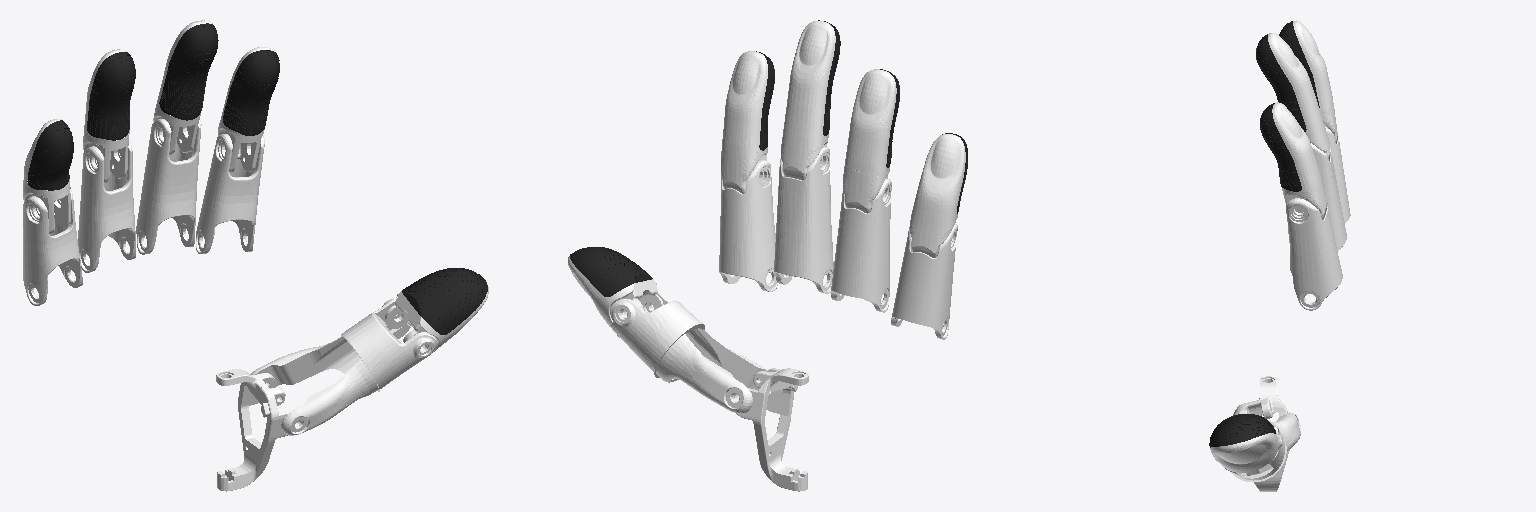
The robot description file, URDF, robot "DH116S-R000-A1":
<?xml version="1.0" encoding="utf-8"?>
<!-- This URDF was automatically created by SolidWorks to URDF Exporter! Originally created by [author] ([email redacted]) 
     Commit Version: 1.6.0-4-g7f85cfe  Build Version: 1.6.7995.38578
     For more information, please see http://wiki.ros.org/sw_urdf_exporter -->
<robot
  name="DH116S-R000-A1">
  <link
    name="base_link">
    <inertial>
      <origin
        xyz="0.00044529 0.0074122 0.047285"
        rpy="0 0 0" />
      <mass
        value="0.10795" />
      <inertia
        ixx="4.6381E-05"
        ixy="2.7508E-08"
        ixz="1.863E-07"
        iyy="6.7147E-05"
        iyz="-1.5554E-06"
        izz="3.0034E-05" />
    </inertial>
    <visual>
      <origin
        xyz="0 0 0"
        rpy="0 0 0" />
      <geometry>
        <mesh
          filename="package://lhandpro_description/meshes/base_link.STL" />
      </geometry>
      <material
        name="">
        <color
          rgba="1 1 1 1" />
      </material>
    </visual>
    <collision>
      <origin
        xyz="0 0 0"
        rpy="0 0 0" />
      <geometry>
        <mesh
          filename="package://lhandpro_description/meshes/base_link.STL" />
      </geometry>
    </collision>
  </link>
  <link
    name="finger11_link">
    <inertial>
      <origin
        xyz="-0.0014872 -0.0084274 0.00095867"
        rpy="0 0 0" />
      <mass
        value="0.0027298" />
      <inertia
        ixx="3.2865E-07"
        ixy="-7.416E-09"
        ixz="1.1689E-08"
        iyy="3.5725E-07"
        iyz="3.5012E-08"
        izz="1.0938E-07" />
    </inertial>
    <visual>
      <origin
        xyz="0 0 0"
        rpy="0 0 0" />
      <geometry>
        <mesh
          filename="package://lhandpro_description/meshes/finger11_link.STL" />
      </geometry>
      <material
        name="">
        <color
          rgba="1 1 1 1" />
      </material>
    </visual>
    <collision>
      <origin
        xyz="0 0 0"
        rpy="0 0 0" />
      <geometry>
        <mesh
          filename="package://lhandpro_description/meshes/finger11_link.STL" />
      </geometry>
    </collision>
  </link>
  <joint
    name="finger11"
    type="revolute">
    <origin
      xyz="0.019011 -0.007805 0.03432"
      rpy="0 -3.0438E-05 1.5708" />
    <parent
      link="base_link" />
    <child
      link="finger11_link" />
    <axis
      xyz="0 0 -1" />
    <limit
      lower="0"
      upper="1.92"
      effort="0"
      velocity="0" />
  </joint>
  <link
    name="finger12_link">
    <inertial>
      <origin
        xyz="0.021017 0.028207 -0.020207"
        rpy="0 0 0" />
      <mass
        value="0.15691" />
      <inertia
        ixx="0.00031329"
        ixy="-5.4214E-05"
        ixz="-3.0162E-06"
        iyy="0.00014267"
        iyz="-3.8971E-05"
        izz="0.00022524" />
    </inertial>
    <visual>
      <origin
        xyz="0 0 0"
        rpy="0 0 0" />
      <geometry>
        <mesh
          filename="package://lhandpro_description/meshes/finger12_link.STL" />
      </geometry>
      <material
        name="">
        <color
          rgba="1 1 1 1" />
      </material>
    </visual>
    <collision>
      <origin
        xyz="0 0 0"
        rpy="0 0 0" />
      <geometry>
        <mesh
          filename="package://lhandpro_description/meshes/finger12_link.STL" />
      </geometry>
    </collision>
  </link>
  <joint
    name="finger12"
    type="revolute">
    <origin
      xyz="-0.0024172 -0.015 0.0067143"
      rpy="1.1997 -0.2618 0" />
    <parent
      link="finger11_link" />
    <child
      link="finger12_link" />
    <axis
      xyz="-1 0 0" />
    <limit
      lower="0"
      upper="1.57"
      effort="0"
      velocity="0" />
  </joint>
  <link
    name="finger13_link">
    <inertial>
      <origin
        xyz="2.0803E-05 -0.0010263 0.0087716"
        rpy="0 0 0" />
      <mass
        value="0.0051235" />
      <inertia
        ixx="2.4095E-07"
        ixy="-4.7783E-10"
        ixz="-9.7696E-10"
        iyy="3.0808E-07"
        iyz="-2.5033E-09"
        izz="1.6137E-07" />
    </inertial>
    <visual>
      <origin
        xyz="0 0 0"
        rpy="0 0 0" />
      <geometry>
        <mesh
          filename="package://lhandpro_description/meshes/finger13_link.STL" />
      </geometry>
      <material
        name="">
        <color
          rgba="1 1 1 1" />
      </material>
    </visual>
    <collision>
      <origin
        xyz="0 0 0"
        rpy="0 0 0" />
      <geometry>
        <mesh
          filename="package://lhandpro_description/meshes/finger13_link.STL" />
      </geometry>
    </collision>
  </link>
  <joint
    name="finger13"
    type="revolute">
    <origin
      xyz="0 0 0.040273"
      rpy="0 0 0" />
    <parent
      link="finger12_link" />
    <child
      link="finger13_link" />
    <axis
      xyz="-1 0 0" />
    <limit
      lower="0"
      upper="1.57"
      effort="0"
      velocity="0" />
  </joint>
  <link
    name="finger14_link">
    <inertial>
      <origin
        xyz="-3.9568E-06 0.0042569 0.012288"
        rpy="0 0 0" />
      <mass
        value="0.0024048" />
      <inertia
        ixx="6.5133E-08"
        ixy="-3.3089E-10"
        ixz="-5.4015E-10"
        iyy="9.9517E-08"
        iyz="4.5348E-09"
        izz="5.5452E-08" />
    </inertial>
    <visual>
      <origin
        xyz="0 0 0"
        rpy="0 0 0" />
      <geometry>
        <mesh
          filename="package://lhandpro_description/meshes/finger14_link.STL" />
      </geometry>
      <material
        name="">
        <color
          rgba="0.2 0.2 0.2 1" />
      </material>
    </visual>
    <collision>
      <origin
        xyz="0 0 0"
        rpy="0 0 0" />
      <geometry>
        <mesh
          filename="package://lhandpro_description/meshes/finger14_link.STL" />
      </geometry>
    </collision>
  </link>
  <joint
    name="finger14"
    type="fixed">
    <origin
      xyz="0 0 0"
      rpy="0 0 0" />
    <parent
      link="finger13_link" />
    <child
      link="finger14_link" />
    <axis
      xyz="0 0 0" />
    <limit
      lower="0"
      upper="0"
      effort="0"
      velocity="0" />
  </joint>
  <link
    name="finger21_link">
    <inertial>
      <origin
        xyz="-3.1071E-06 -0.00017638 0.014617"
        rpy="0 0 0" />
      <mass
        value="0.0039377" />
      <inertia
        ixx="3.1595E-07"
        ixy="-3.4302E-11"
        ixz="6.472E-11"
        iyy="3.4097E-07"
        iyz="3.2752E-08"
        izz="1.5671E-07" />
    </inertial>
    <visual>
      <origin
        xyz="0 0 0"
        rpy="0 0 0" />
      <geometry>
        <mesh
          filename="package://lhandpro_description/meshes/finger21_link.STL" />
      </geometry>
      <material
        name="">
        <color
          rgba="1 1 1 1" />
      </material>
    </visual>
    <collision>
      <origin
        xyz="0 0 0"
        rpy="0 0 0" />
      <geometry>
        <mesh
          filename="package://lhandpro_description/meshes/finger21_link.STL" />
      </geometry>
    </collision>
  </link>
  <joint
    name="finger21"
    type="revolute">
    <origin
      xyz="0.026269 0.0052799 0.083877"
      rpy="-0.018831 0.11816 -0.15867" />
    <parent
      link="base_link" />
    <child
      link="finger21_link" />
    <axis
      xyz="1 0 0" />
    <limit
      lower="0"
      upper="1.57"
      effort="0"
      velocity="0" />
  </joint>
  <link
    name="finger22_link">
    <inertial>
      <origin
        xyz="-3.4858E-05 0.00071691 0.010973"
        rpy="0 0 0" />
      <mass
        value="0.0035951" />
      <inertia
        ixx="3.7147E-07"
        ixy="-2.5545E-10"
        ixz="2.1606E-09"
        iyy="3.6852E-07"
        iyz="5.9509E-08"
        izz="6.8574E-08" />
    </inertial>
    <visual>
      <origin
        xyz="0 0 0"
        rpy="0 0 0" />
      <geometry>
        <mesh
          filename="package://lhandpro_description/meshes/finger22_link.STL" />
      </geometry>
      <material
        name="">
        <color
          rgba="1 1 1 1" />
      </material>
    </visual>
    <collision>
      <origin
        xyz="0 0 0"
        rpy="0 0 0" />
      <geometry>
        <mesh
          filename="package://lhandpro_description/meshes/finger22_link.STL" />
      </geometry>
    </collision>
  </link>
  <joint
    name="finger22"
    type="revolute">
    <origin
      xyz="0 -0.0036408 0.027789"
      rpy="0 0 0" />
    <parent
      link="finger21_link" />
    <child
      link="finger22_link" />
    <axis
      xyz="1 0 0" />
    <limit
      lower="0"
      upper="1.57"
      effort="0"
      velocity="0" />
  </joint>
  <link
    name="finger23_link">
    <inertial>
      <origin
        xyz="-7.8448E-05 -0.004936 0.018863"
        rpy="0 0 0" />
      <mass
        value="0.0019493" />
      <inertia
        ixx="9.2478E-08"
        ixy="2.6283E-11"
        ixz="3.1426E-11"
        iyy="9.1954E-08"
        iyz="2.5642E-08"
        izz="3.301E-08" />
    </inertial>
    <visual>
      <origin
        xyz="0 0 0"
        rpy="0 0 0" />
      <geometry>
        <mesh
          filename="package://lhandpro_description/meshes/finger23_link.STL" />
      </geometry>
      <material
        name="">
        <color
          rgba="0.2 0.2 0.2 1" />
      </material>
    </visual>
    <collision>
      <origin
        xyz="0 0 0"
        rpy="0 0 0" />
      <geometry>
        <mesh
          filename="package://lhandpro_description/meshes/finger23_link.STL" />
      </geometry>
    </collision>
  </link>
  <joint
    name="finger23"
    type="fixed">
    <origin
      xyz="0 0 0"
      rpy="0 0 0" />
    <parent
      link="finger22_link" />
    <child
      link="finger23_link" />
    <axis
      xyz="0 0 0" />
    <limit
      lower="0"
      upper="0"
      effort="0"
      velocity="0" />
  </joint>
  <link
    name="finger31_link">
    <inertial>
      <origin
        xyz="-2.463E-06 0.0016883 0.016609"
        rpy="0 0 0" />
      <mass
        value="0.0046564" />
      <inertia
        ixx="4.6403E-07"
        ixy="-6.2008E-11"
        ixz="5.3483E-11"
        iyy="4.9622E-07"
        iyz="1.1987E-08"
        izz="1.7841E-07" />
    </inertial>
    <visual>
      <origin
        xyz="0 0 0"
        rpy="0 0 0" />
      <geometry>
        <mesh
          filename="package://lhandpro_description/meshes/finger31_link.STL" />
      </geometry>
      <material
        name="">
        <color
          rgba="1 1 1 1" />
      </material>
    </visual>
    <collision>
      <origin
        xyz="0 0 0"
        rpy="0 0 0" />
      <geometry>
        <mesh
          filename="package://lhandpro_description/meshes/finger31_link.STL" />
      </geometry>
    </collision>
  </link>
  <joint
    name="finger31"
    type="revolute">
    <origin
      xyz="0.008744 0.006507 0.088166"
      rpy="0.10576 0.052052 -0.049525" />
    <parent
      link="base_link" />
    <child
      link="finger31_link" />
    <axis
      xyz="1 0 0" />
    <limit
      lower="0"
      upper="1.57"
      effort="0"
      velocity="0" />
  </joint>
  <link
    name="finger32_link">
    <inertial>
      <origin
        xyz="-4.2116E-07 0.0013472 0.012495"
        rpy="0 0 0" />
      <mass
        value="0.0039648" />
      <inertia
        ixx="5.136E-07"
        ixy="-2.467E-10"
        ixz="1.5491E-09"
        iyy="5.1755E-07"
        iyz="5.4832E-08"
        izz="7.0491E-08" />
    </inertial>
    <visual>
      <origin
        xyz="0 0 0"
        rpy="0 0 0" />
      <geometry>
        <mesh
          filename="package://lhandpro_description/meshes/finger32_link.STL" />
      </geometry>
      <material
        name="">
        <color
          rgba="1 1 1 1" />
      </material>
    </visual>
    <collision>
      <origin
        xyz="0 0 0"
        rpy="0 0 0" />
      <geometry>
        <mesh
          filename="package://lhandpro_description/meshes/finger32_link.STL" />
      </geometry>
    </collision>
  </link>
  <joint
    name="finger32"
    type="revolute">
    <origin
      xyz="0 -0.00026526 0.03253"
      rpy="0 0 0" />
    <parent
      link="finger31_link" />
    <child
      link="finger32_link" />
    <axis
      xyz="1 0 0" />
    <limit
      lower="0"
      upper="1.57"
      effort="0"
      velocity="0" />
  </joint>
  <link
    name="finger33_link">
    <inertial>
      <origin
        xyz="2.3154E-06 -0.0037373 0.021499"
        rpy="0 0 0" />
      <mass
        value="0.0022727" />
      <inertia
        ixx="1.4796E-07"
        ixy="1.5864E-11"
        ixz="-3.152E-13"
        iyy="1.4852E-07"
        iyz="3.2337E-08"
        izz="3.561E-08" />
    </inertial>
    <visual>
      <origin
        xyz="0 0 0"
        rpy="0 0 0" />
      <geometry>
        <mesh
          filename="package://lhandpro_description/meshes/finger33_link.STL" />
      </geometry>
      <material
        name="">
        <color
          rgba="0.2 0.2 0.2 1" />
      </material>
    </visual>
    <collision>
      <origin
        xyz="0 0 0"
        rpy="0 0 0" />
      <geometry>
        <mesh
          filename="package://lhandpro_description/meshes/finger33_link.STL" />
      </geometry>
    </collision>
  </link>
  <joint
    name="finger33"
    type="fixed">
    <origin
      xyz="0 0 0"
      rpy="0 0 0" />
    <parent
      link="finger32_link" />
    <child
      link="finger33_link" />
    <axis
      xyz="0 0 0" />
    <limit
      lower="0"
      upper="0"
      effort="0"
      velocity="0" />
  </joint>
  <link
    name="finger41_link">
    <inertial>
      <origin
        xyz="-2.0192E-06 0.0018776 0.014821"
        rpy="0 0 0" />
      <mass
        value="0.0041427" />
      <inertia
        ixx="3.6211E-07"
        ixy="-4.5157E-11"
        ixz="4.6434E-11"
        iyy="3.9328E-07"
        iyz="1.1678E-08"
        izz="1.5797E-07" />
    </inertial>
    <visual>
      <origin
        xyz="0 0 0"
        rpy="0 0 0" />
      <geometry>
        <mesh
          filename="package://lhandpro_description/meshes/finger41_link.STL" />
      </geometry>
      <material
        name="">
        <color
          rgba="1 1 1 1" />
      </material>
    </visual>
    <collision>
      <origin
        xyz="0 0 0"
        rpy="0 0 0" />
      <geometry>
        <mesh
          filename="package://lhandpro_description/meshes/finger41_link.STL" />
      </geometry>
    </collision>
  </link>
  <joint
    name="finger41"
    type="revolute">
    <origin
      xyz="-0.0088463 0.0073041 0.087413"
      rpy="0.082606 -0.034779 0.050937" />
    <parent
      link="base_link" />
    <child
      link="finger41_link" />
    <axis
      xyz="1 0 0" />
    <limit
      lower="0"
      upper="1.57"
      effort="0"
      velocity="0" />
  </joint>
  <link
    name="finger42_link">
    <inertial>
      <origin
        xyz="-2.8427E-05 0.0015404 0.011153"
        rpy="0 0 0" />
      <mass
        value="0.0038285" />
      <inertia
        ixx="3.9947E-07"
        ixy="-3.4225E-11"
        ixz="2.2812E-09"
        iyy="4.0458E-07"
        iyz="3.4902E-08"
        izz="6.4978E-08" />
    </inertial>
    <visual>
      <origin
        xyz="0 0 0"
        rpy="0 0 0" />
      <geometry>
        <mesh
          filename="package://lhandpro_description/meshes/finger42_link.STL" />
      </geometry>
      <material
        name="">
        <color
          rgba="1 1 1 1" />
      </material>
    </visual>
    <collision>
      <origin
        xyz="0 0 0"
        rpy="0 0 0" />
      <geometry>
        <mesh
          filename="package://lhandpro_description/meshes/finger42_link.STL" />
      </geometry>
    </collision>
  </link>
  <joint
    name="finger42"
    type="revolute">
    <origin
      xyz="0 0 0.029529"
      rpy="-0.084349 0 0" />
    <parent
      link="finger41_link" />
    <child
      link="finger42_link" />
    <axis
      xyz="1 0 0" />
    <limit
      lower="0"
      upper="1.57"
      effort="0"
      velocity="0" />
  </joint>
  <link
    name="finger43_link">
    <inertial>
      <origin
        xyz="-8.2684E-05 -0.0033924 0.020019"
        rpy="0 0 0" />
      <mass
        value="0.0019493" />
      <inertia
        ixx="9.2478E-08"
        ixy="4.3975E-11"
        ixz="6.2557E-11"
        iyy="9.5911E-08"
        iyz="2.0215E-08"
        izz="2.9054E-08" />
    </inertial>
    <visual>
      <origin
        xyz="0 0 0"
        rpy="0 0 0" />
      <geometry>
        <mesh
          filename="package://lhandpro_description/meshes/finger43_link.STL" />
      </geometry>
      <material
        name="">
        <color
          rgba="0.2 0.2 0.2 1" />
      </material>
    </visual>
    <collision>
      <origin
        xyz="0 0 0"
        rpy="0 0 0" />
      <geometry>
        <mesh
          filename="package://lhandpro_description/meshes/finger43_link.STL" />
      </geometry>
    </collision>
  </link>
  <joint
    name="finger43"
    type="fixed">
    <origin
      xyz="0 0 0"
      rpy="0 0 0" />
    <parent
      link="finger42_link" />
    <child
      link="finger43_link" />
    <axis
      xyz="0 0 0" />
    <limit
      lower="0"
      upper="0"
      effort="0"
      velocity="0" />
  </joint>
  <link
    name="finger51_link">
    <inertial>
      <origin
        xyz="-2.2824E-06 0.0018149 0.013139"
        rpy="0 0 0" />
      <mass
        value="0.0034504" />
      <inertia
        ixx="2.3794E-07"
        ixy="-2.6265E-12"
        ixz="8.6014E-11"
        iyy="2.6911E-07"
        iyz="7.2418E-09"
        izz="1.3519E-07" />
    </inertial>
    <visual>
      <origin
        xyz="0 0 0"
        rpy="0 0 0" />
      <geometry>
        <mesh
          filename="package://lhandpro_description/meshes/finger51_link.STL" />
      </geometry>
      <material
        name="">
        <color
          rgba="1 1 1 1" />
      </material>
    </visual>
    <collision>
      <origin
        xyz="0 0 0"
        rpy="0 0 0" />
      <geometry>
        <mesh
          filename="package://lhandpro_description/meshes/finger51_link.STL" />
      </geometry>
    </collision>
  </link>
  <joint
    name="finger51"
    type="revolute">
    <origin
      xyz="-0.026313 0.0056254 0.083042"
      rpy="0.076915 -0.11667 0.14928" />
    <parent
      link="base_link" />
    <child
      link="finger51_link" />
    <axis
      xyz="1 0 0" />
    <limit
      lower="0"
      upper="1.57"
      effort="0"
      velocity="0" />
  </joint>
  <link
    name="finger52_link">
    <inertial>
      <origin
        xyz="-3.1534E-05 0.001792 0.0083594"
        rpy="0 0 0" />
      <mass
        value="0.0034587" />
      <inertia
        ixx="2.5319E-07"
        ixy="3.7687E-11"
        ixz="1.0696E-09"
        iyy="2.5692E-07"
        iyz="7.5776E-09"
        izz="6.1477E-08" />
    </inertial>
    <visual>
      <origin
        xyz="0 0 0"
        rpy="0 0 0" />
      <geometry>
        <mesh
          filename="package://lhandpro_description/meshes/finger52_link.STL" />
      </geometry>
      <material
        name="">
        <color
          rgba="1 1 1 1" />
      </material>
    </visual>
    <collision>
      <origin
        xyz="0 0 0"
        rpy="0 0 0" />
      <geometry>
        <mesh
          filename="package://lhandpro_description/meshes/finger52_link.STL" />
      </geometry>
    </collision>
  </link>
  <joint
    name="finger52"
    type="revolute">
    <origin
      xyz="0 0 0.025024"
      rpy="0 0 0" />
    <parent
      link="finger51_link" />
    <child
      link="finger52_link" />
    <axis
      xyz="1 0 0" />
    <limit
      lower="0"
      upper="1.57"
      effort="0"
      velocity="0" />
  </joint>
  <link
    name="finger53_link">
    <inertial>
      <origin
        xyz="-0.0001026 -0.0027756 0.017057"
        rpy="0 0 0" />
      <mass
        value="0.0014968" />
      <inertia
        ixx="4.3984E-08"
        ixy="2.7281E-11"
        ixz="-2.4817E-10"
        iyy="4.7233E-08"
        iyz="8.3311E-09"
        izz="1.9545E-08" />
    </inertial>
    <visual>
      <origin
        xyz="0 0 0"
        rpy="0 0 0" />
      <geometry>
        <mesh
          filename="package://lhandpro_description/meshes/finger53_link.STL" />
      </geometry>
      <material
        name="">
        <color
          rgba="0.2 0.2 0.2 1" />
      </material>
    </visual>
    <collision>
      <origin
        xyz="0 0 0"
        rpy="0 0 0" />
      <geometry>
        <mesh
          filename="package://lhandpro_description/meshes/finger53_link.STL" />
      </geometry>
    </collision>
  </link>
  <joint
    name="finger53"
    type="fixed">
    <origin
      xyz="0 0 0"
      rpy="0 0 0" />
    <parent
      link="finger52_link" />
    <child
      link="finger53_link" />
    <axis
      xyz="0 0 0" />
  </joint>
</robot>

--- Facts derived from the render (not from the file) ---
The picture shows the robot from 3 angles, left to right: view 1: azimuth 30°, elevation 25°; view 2: azimuth 150°, elevation 25°; view 3: azimuth 270°, elevation 25°; orthographic projection.
Model DH116S-R000-A1 with 17 links and 16 joints (11 revolute, 5 fixed), rooted at base_link, posed all joints at 0.
Visible links, largest first — view 1: finger12_link, finger31_link, finger41_link, finger21_link, finger11_link, finger51_link, finger33_link, finger14_link, finger23_link, finger43_link, finger53_link, finger42_link (+4 smaller); view 2: finger12_link, finger31_link, finger32_link, finger21_link, finger41_link, finger42_link, finger22_link, finger52_link, finger51_link, finger11_link, finger14_link, finger13_link (+2 smaller); view 3: finger21_link, finger22_link, finger32_link, finger13_link, finger42_link, finger11_link, finger33_link, finger14_link, finger23_link, finger31_link, finger12_link, finger41_link (+1 smaller).
Link boxes in pixels (bbox=[...]): finger12_link: bbox=[250, 297, 437, 435]; finger31_link: bbox=[136, 119, 201, 254]; finger41_link: bbox=[78, 141, 135, 272]; finger21_link: bbox=[196, 134, 264, 253]; finger11_link: bbox=[216, 369, 298, 491]; finger51_link: bbox=[23, 189, 82, 305]; finger33_link: bbox=[159, 23, 218, 120]; finger14_link: bbox=[402, 268, 487, 334]; finger23_link: bbox=[223, 50, 279, 135]; finger43_link: bbox=[87, 52, 135, 140]; finger53_link: bbox=[27, 120, 73, 190]; finger42_link: bbox=[83, 49, 129, 183]; finger12_link: bbox=[610, 293, 770, 413]; finger31_link: bbox=[774, 146, 833, 293]; finger32_link: bbox=[781, 21, 835, 180]; finger21_link: bbox=[719, 160, 777, 291]; finger41_link: bbox=[831, 178, 891, 312]; finger42_link: bbox=[843, 69, 896, 213]; finger22_link: bbox=[721, 51, 767, 193]; finger52_link: bbox=[910, 134, 965, 257]; finger51_link: bbox=[891, 224, 957, 339]; finger11_link: bbox=[734, 368, 808, 491]; finger14_link: bbox=[570, 247, 652, 296]; finger13_link: bbox=[568, 256, 663, 337]; finger21_link: bbox=[1286, 198, 1342, 310]; finger22_link: bbox=[1272, 102, 1327, 218]; finger32_link: bbox=[1268, 33, 1329, 158]; finger13_link: bbox=[1210, 428, 1277, 475]; finger42_link: bbox=[1293, 20, 1337, 142]; finger11_link: bbox=[1233, 376, 1289, 491]; finger33_link: bbox=[1256, 34, 1306, 131]; finger14_link: bbox=[1209, 414, 1275, 447]; finger23_link: bbox=[1260, 103, 1301, 191]; finger31_link: bbox=[1311, 143, 1346, 250]; finger12_link: bbox=[1215, 412, 1300, 481]; finger41_link: bbox=[1325, 127, 1350, 222].
Bounding box of the posed robot: 0.1305 × 0.0406 × 0.1392 m (x, y, z).
16 mesh visuals loaded from 17 distinct referenced files (16 binary STL); not drawn: 1 (reference not matched to a file when rendering).